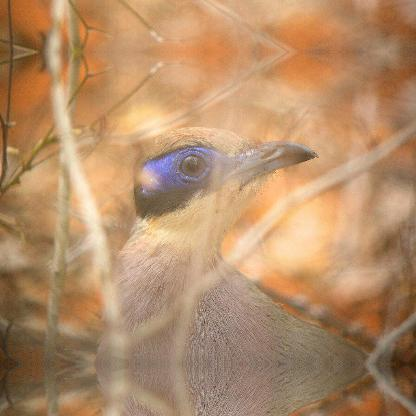Bird: (103, 139, 357, 346)
